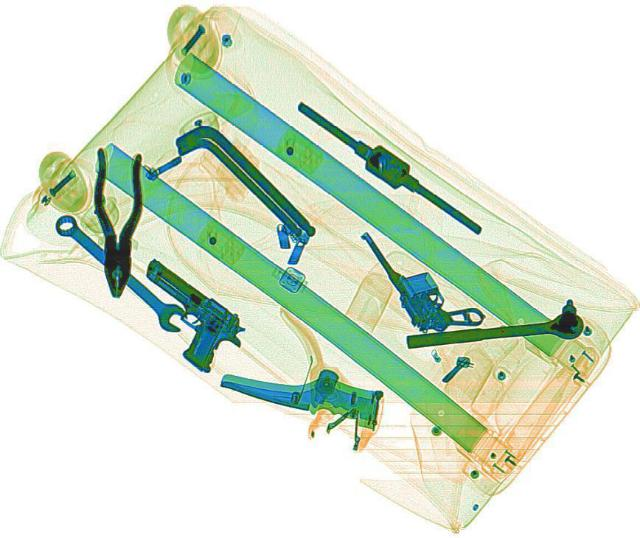Gun: (102, 256, 260, 372), (358, 210, 488, 342)
Pliers: (92, 146, 140, 296)
Wrench: (44, 206, 194, 332)
